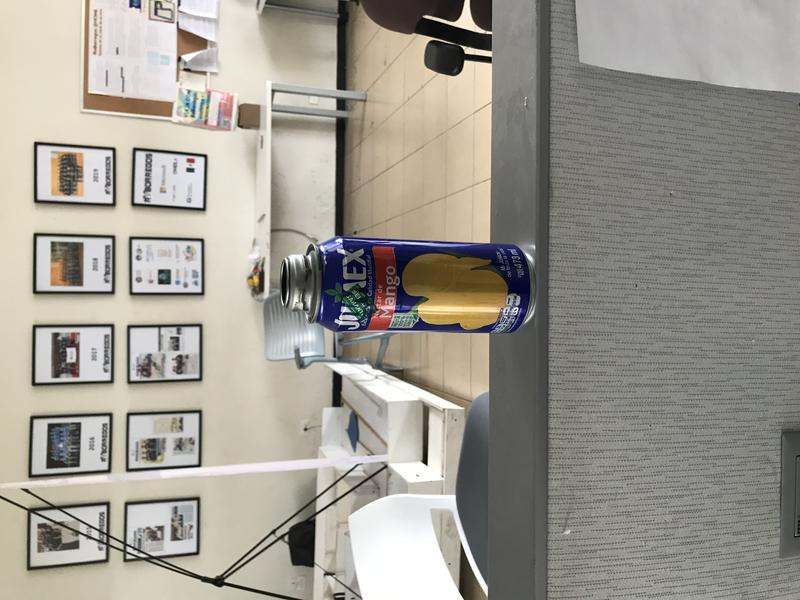jumex_botella: (278, 234, 540, 335)
